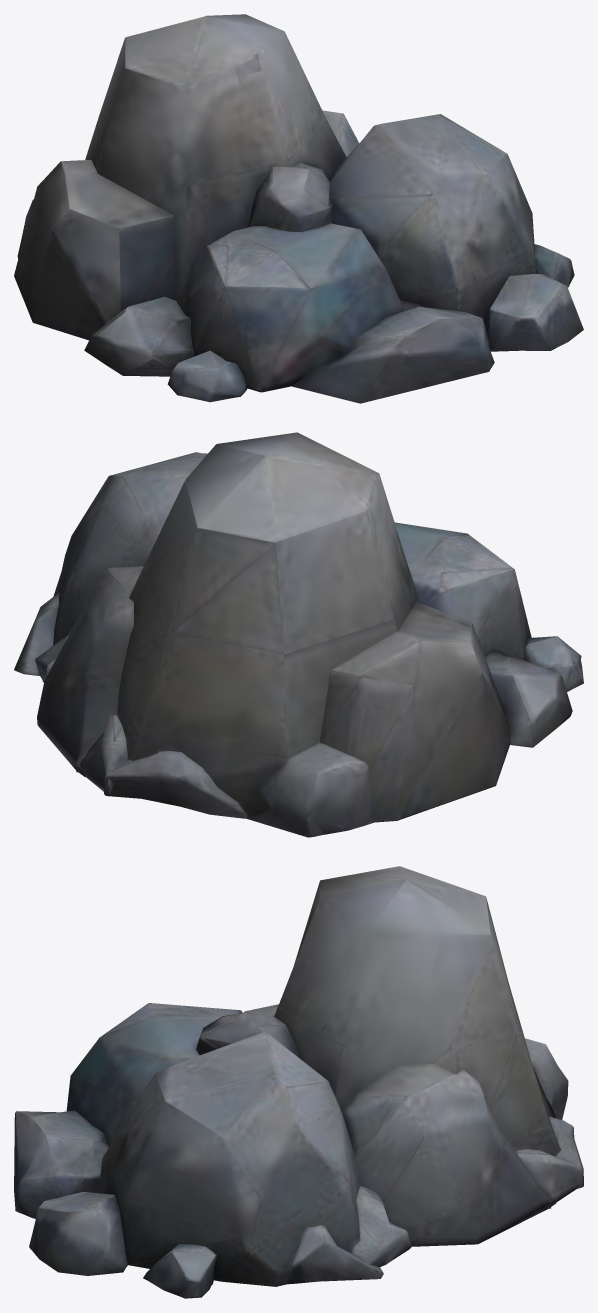
File: 45-rock-cluster.glb
3 views of the same model, one above another, from view 1: azimuth 30°, elevation 25°; view 2: azimuth 150°, elevation 25°; view 3: azimuth 270°, elevation 25° (orthographic). The views are drawn at different scales.
Parts seen in each view (by area): view 1: geometry_0; view 2: geometry_0; view 3: geometry_0.
Boxes of the visible parts, <box> form: geometry_0: <box>14,14,583,403</box>; geometry_0: <box>14,432,583,837</box>; geometry_0: <box>14,866,583,1298</box>.
Size of the model in its own units: 0.9536 by 0.5054 by 0.9438.
1 material, 1 textured.
